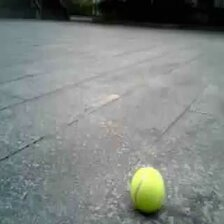tennis: (133, 169, 165, 209)
